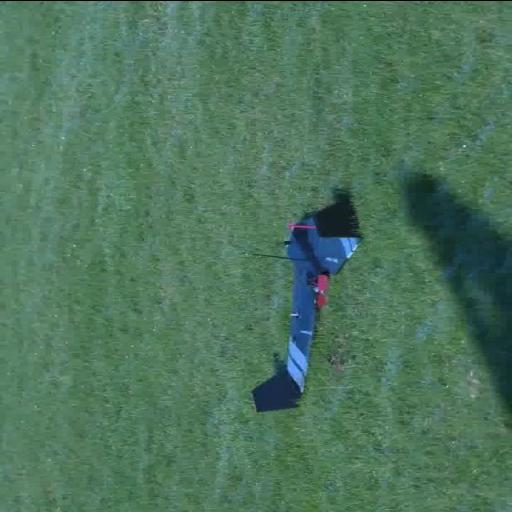uav: (240, 186, 370, 414)
